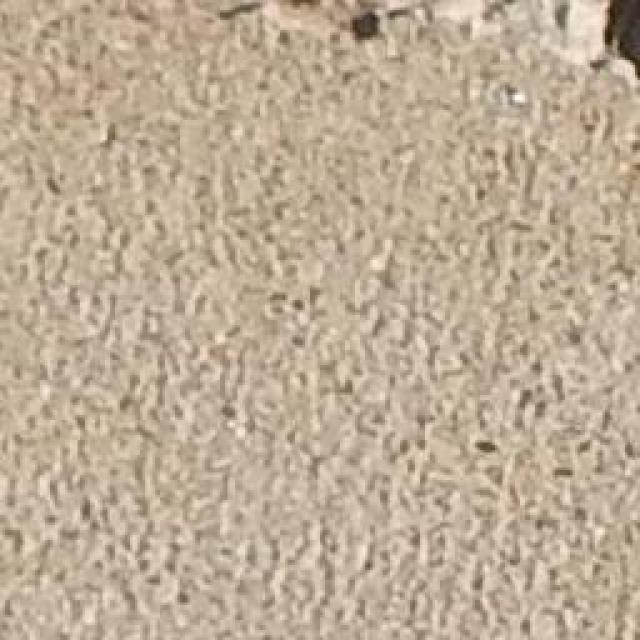concrete-crack: (594, 0, 640, 97)
